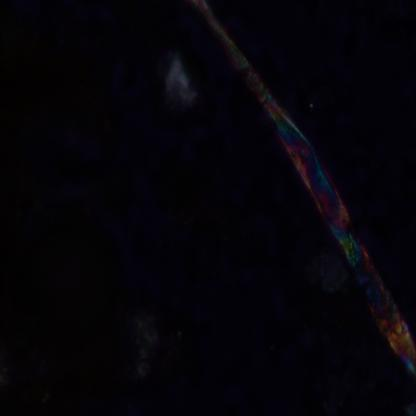Microfibre: (194, 0, 416, 375)
